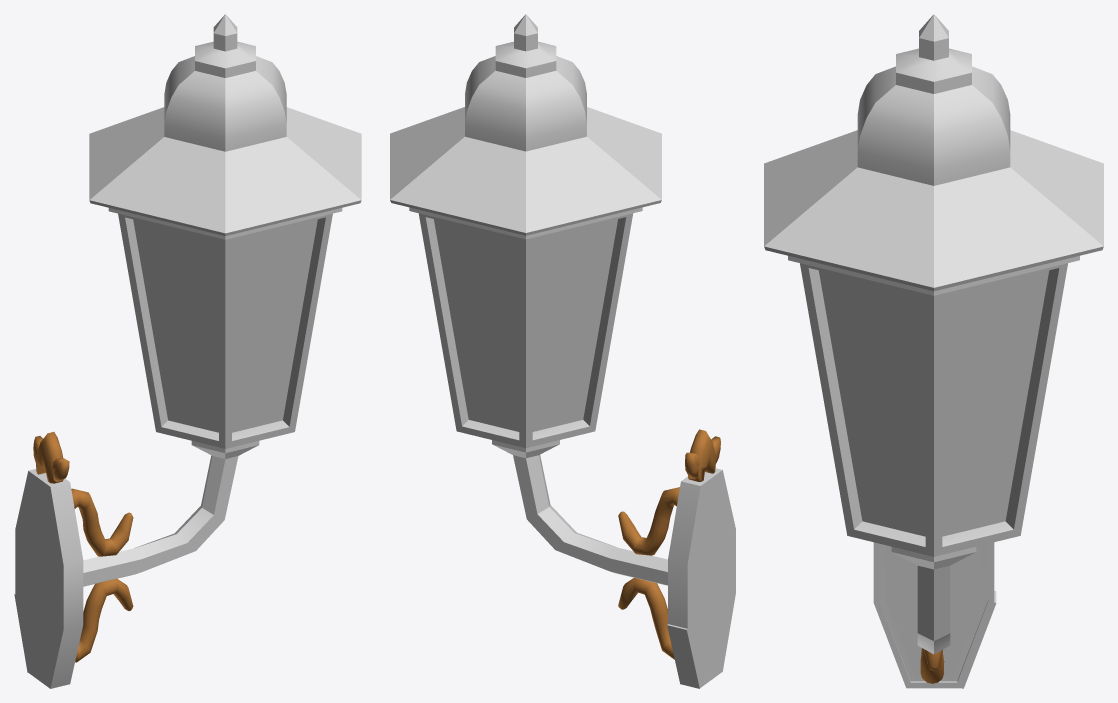
File: SM_LampWall.fbx
3 renders of one model, left to right at view 1: azimuth 30°, elevation 25°; view 2: azimuth 150°, elevation 25°; view 3: azimuth 270°, elevation 25°, orthographic. The views are drawn at different scales.
Visible parts, largest first — view 1: lampar, cristal, DECORACION, Cube.028; view 2: lampar, cristal, DECORACION, Cube.028; view 3: lampar, cristal, DECORACION.
Part boxes in pixels (x1,y1,x2,y2): lampar: (14, 14, 361, 688); cristal: (133, 219, 317, 432); DECORACION: (71, 488, 133, 662); Cube.028: (33, 432, 69, 483); lampar: (390, 14, 735, 688); cristal: (434, 219, 617, 431); DECORACION: (618, 487, 679, 659); Cube.028: (685, 429, 720, 481); lampar: (764, 14, 1103, 688); cristal: (819, 270, 1048, 536); DECORACION: (920, 648, 944, 683).
Size of the model in its own units: 41.82 by 77.13 by 30.6.
